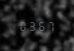seven: (45, 20, 53, 31)
six: (36, 20, 44, 31)
three: (27, 20, 35, 31)
zero: (18, 20, 26, 31)
